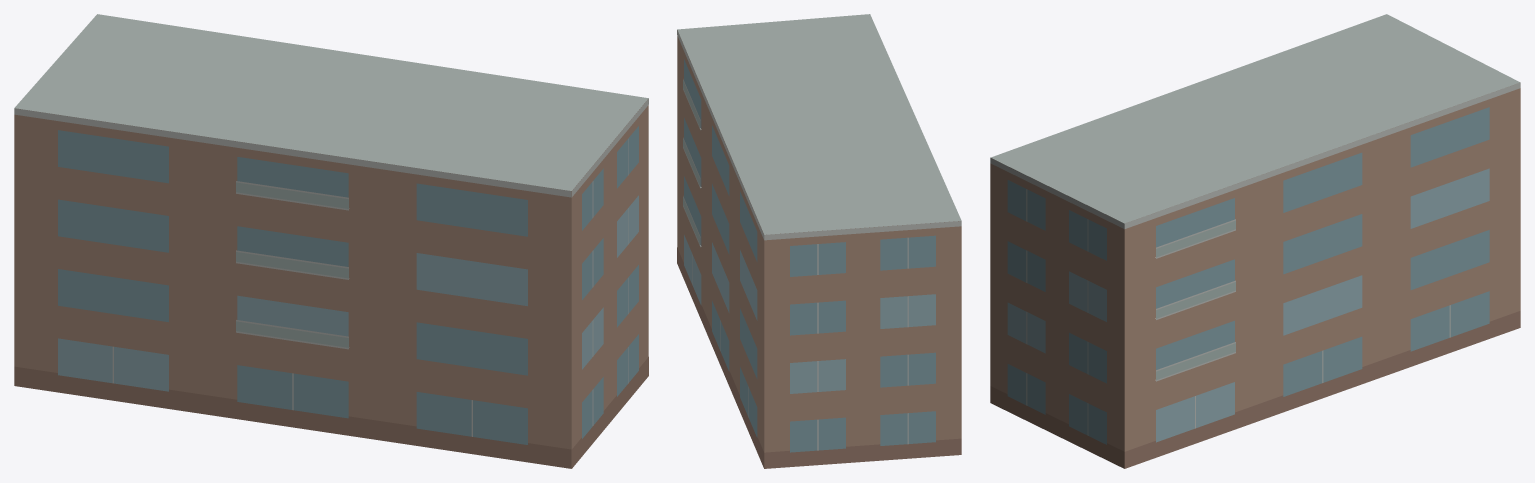
The model's file is survey-upis-32888187.glb.
The picture shows the model from 3 angles, left to right: view 1: azimuth 30°, elevation 25°; view 2: azimuth 150°, elevation 25°; view 3: azimuth 270°, elevation 25°; orthographic projection. The views are drawn at different scales.
Visible parts, largest first — view 1: survey-upis-32888187.tmp; view 2: survey-upis-32888187.tmp; view 3: survey-upis-32888187.tmp.
Boxes of the visible parts, box(x1,y1,x2,y2) form: survey-upis-32888187.tmp: box(14, 14, 648, 468); survey-upis-32888187.tmp: box(677, 14, 961, 468); survey-upis-32888187.tmp: box(990, 14, 1520, 468).
Size of the model in its own units: 19.24 by 10.5 by 20.57.
